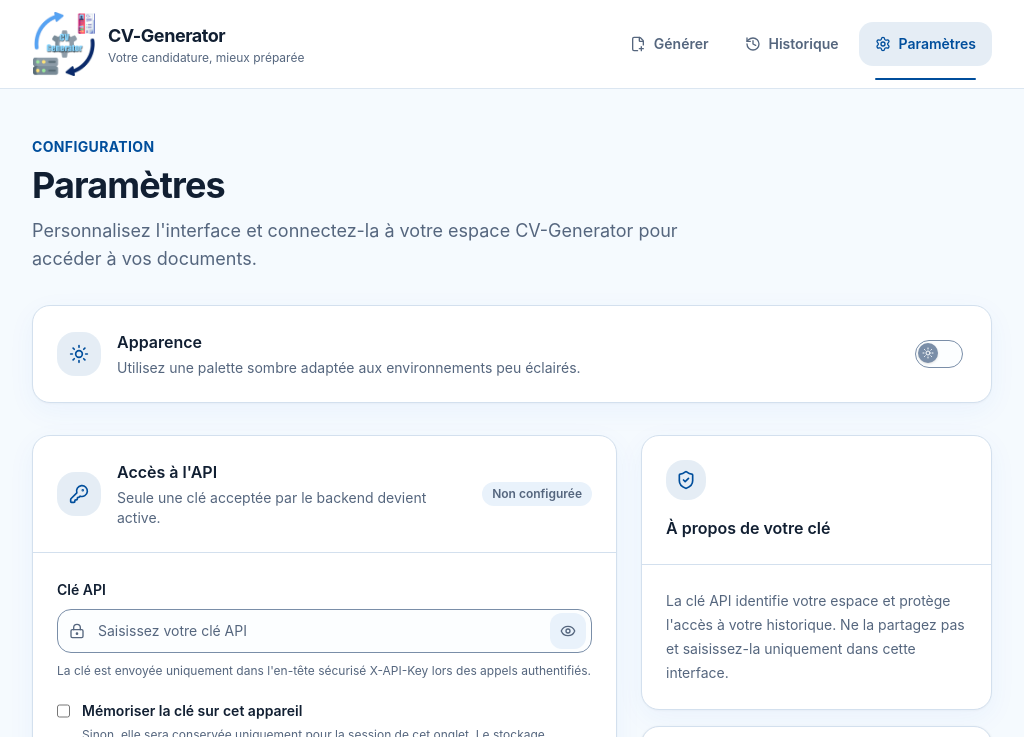
Test: configuration de la clé API › mémorise facultativement la clé dans localStorage
Type "cle-locale" into the password field labelled "Clé API" at (324, 631), box [57,609,592,653]
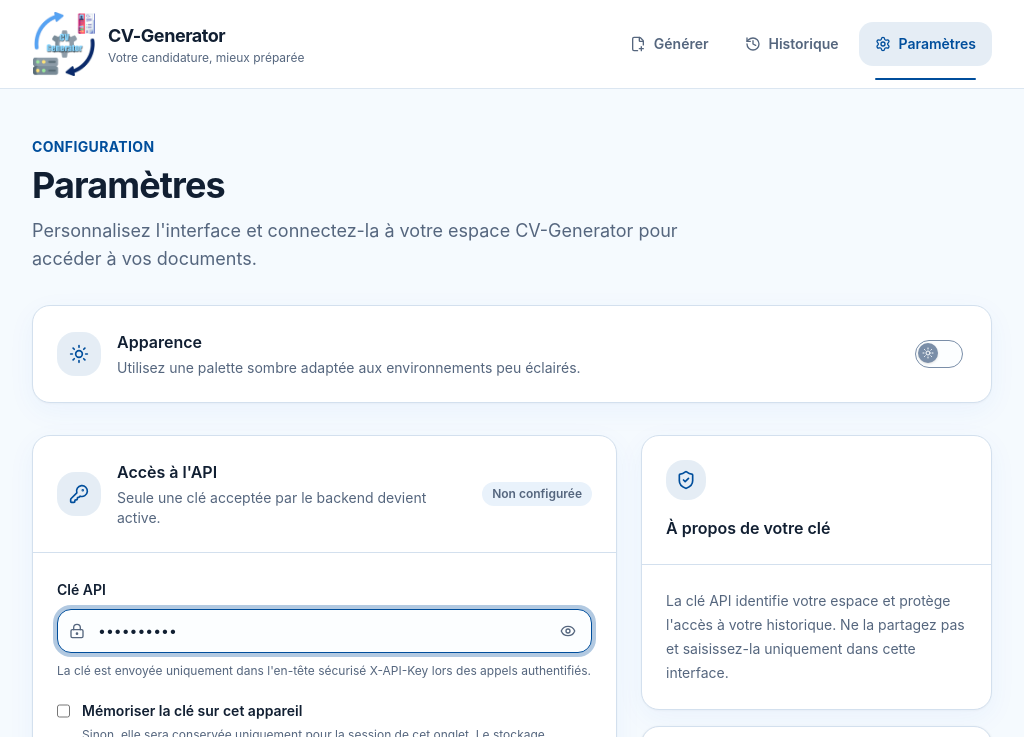
Click the checkbox labelled "Mémoriser la clé sur cet appareil" at (64, 711), box [57,703,70,719]
(page scrolled)
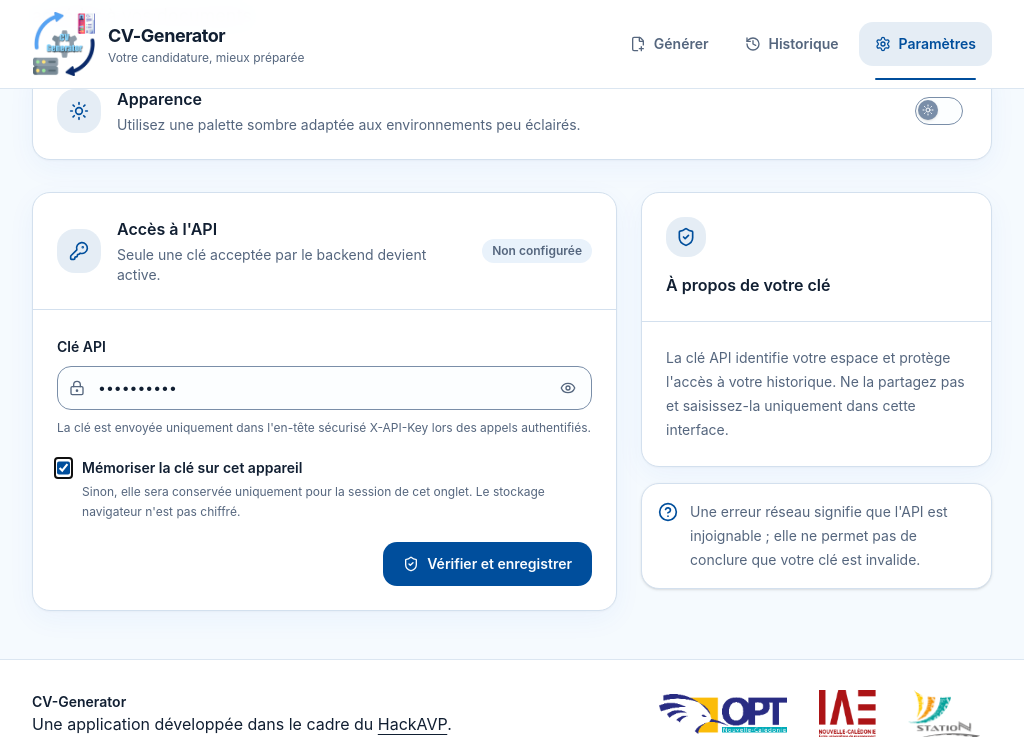
Click the button "Vérifier et enregistrer" at (488, 564), box [383,542,592,586]
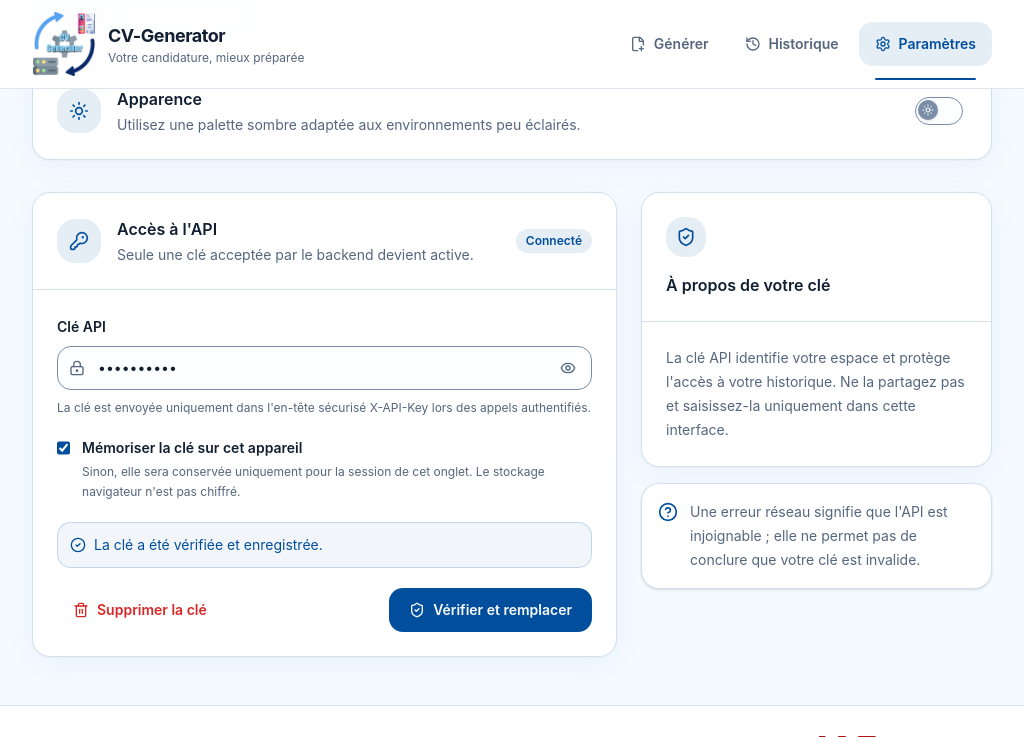
expect the text "Connecté" is shown: met, box [516,229,592,253]
